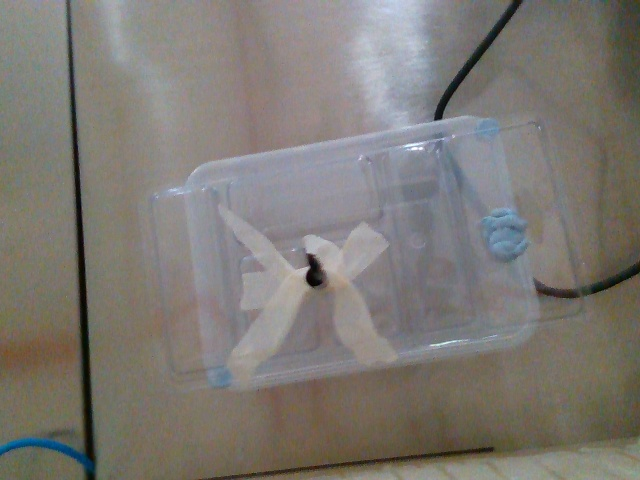test_strip: (303, 252, 325, 282)
